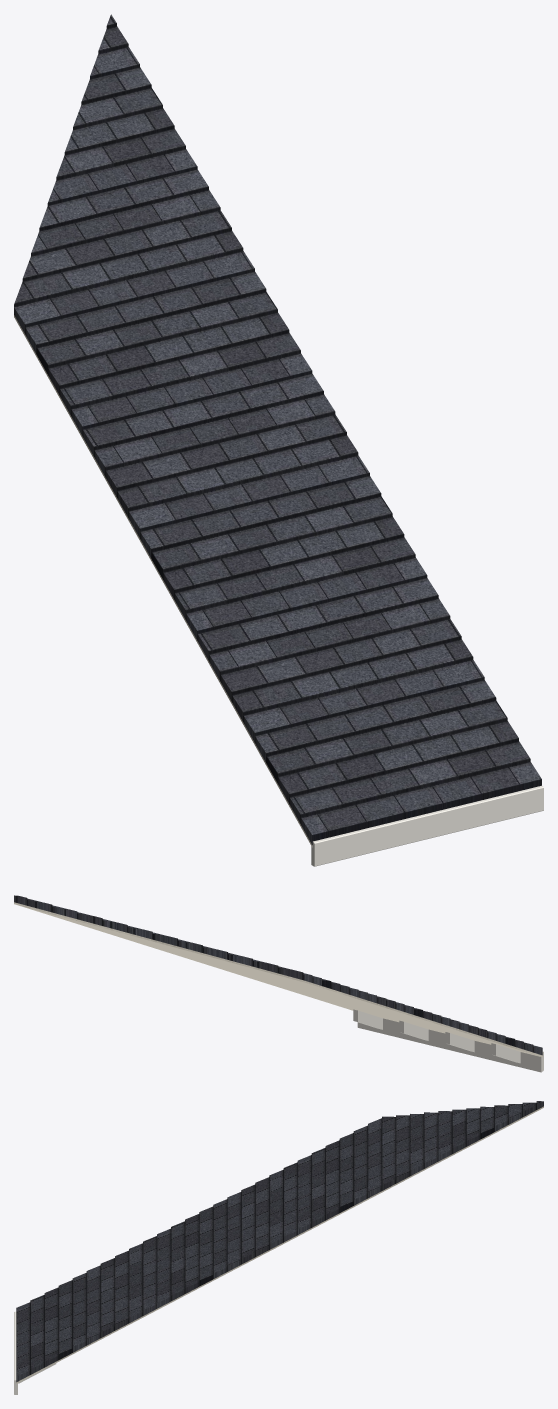
File: roof_main_2_l_porch.glb
The picture shows the model from 3 angles, top to bottom: view 1: azimuth 30°, elevation 25°; view 2: azimuth 150°, elevation 25°; view 3: azimuth 270°, elevation 25°; orthographic projection. The views are drawn at different scales.
Visible parts, largest first — view 1: roof_main_2_l_porch_shingles, roof_main_2_l_porch_trim, roof_main_2_l_porch_plaster; view 2: roof_main_2_l_porch_plaster, roof_main_2_l_porch_shingles, roof_main_2_l_porch_trim; view 3: roof_main_2_l_porch_shingles, roof_main_2_l_porch_plaster.
Part boxes in pixels (box(x1,y1,x2,y2)): roof_main_2_l_porch_shingles: box(14, 14, 541, 844); roof_main_2_l_porch_trim: box(311, 785, 543, 866); roof_main_2_l_porch_plaster: box(14, 315, 312, 847); roof_main_2_l_porch_plaster: box(14, 902, 542, 1057); roof_main_2_l_porch_shingles: box(14, 895, 542, 1055); roof_main_2_l_porch_trim: box(353, 1009, 543, 1072); roof_main_2_l_porch_shingles: box(16, 1101, 543, 1382); roof_main_2_l_porch_plaster: box(16, 1106, 543, 1383).
Bounding box in the file's own units: 2 × 3.99 × 6.53.
3 materials, 2 textured.
